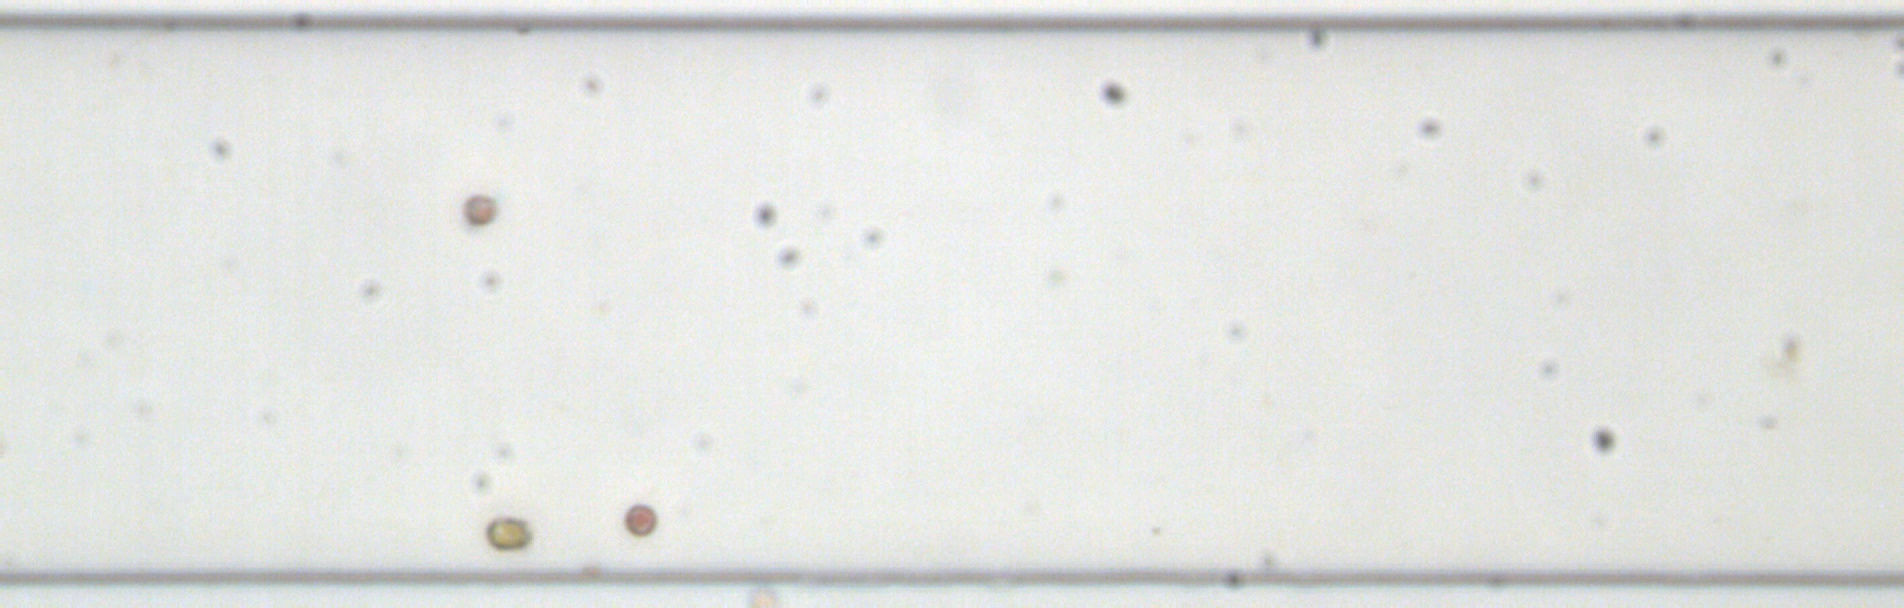Effrenium: (481, 515, 532, 553)
Porphyridium: (457, 192, 499, 229), (620, 500, 658, 540)
